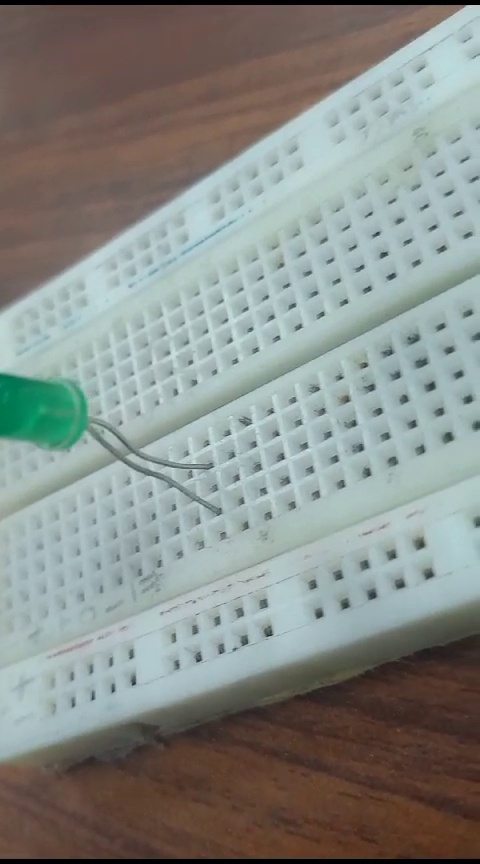LED: (6, 363, 218, 531)
